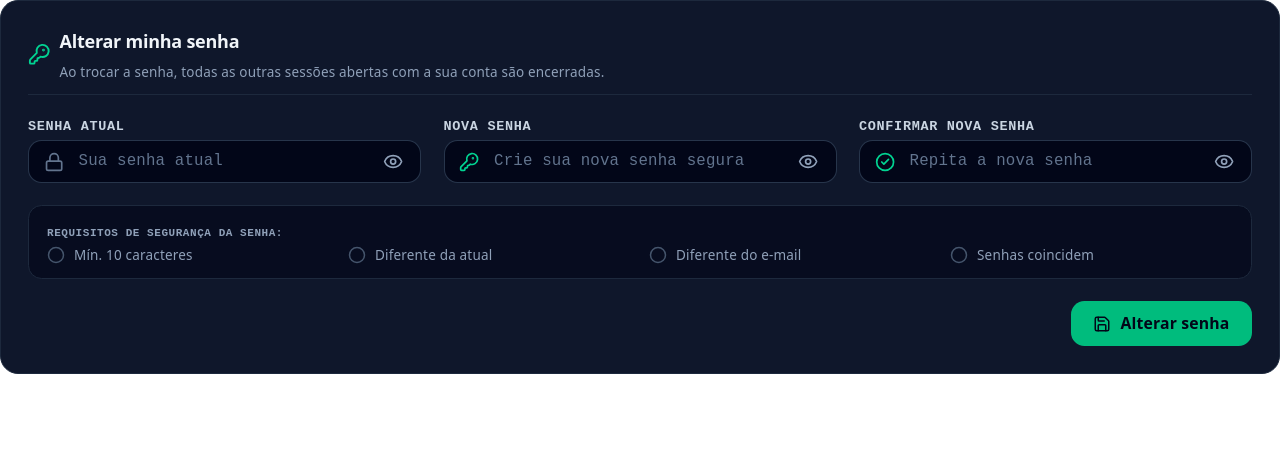
Test: AlterarSenha › exibe a recusa da API
Type "senha-antiga-123" into the password field labelled "Senha atual" at (224, 162), box [28,140,421,183]
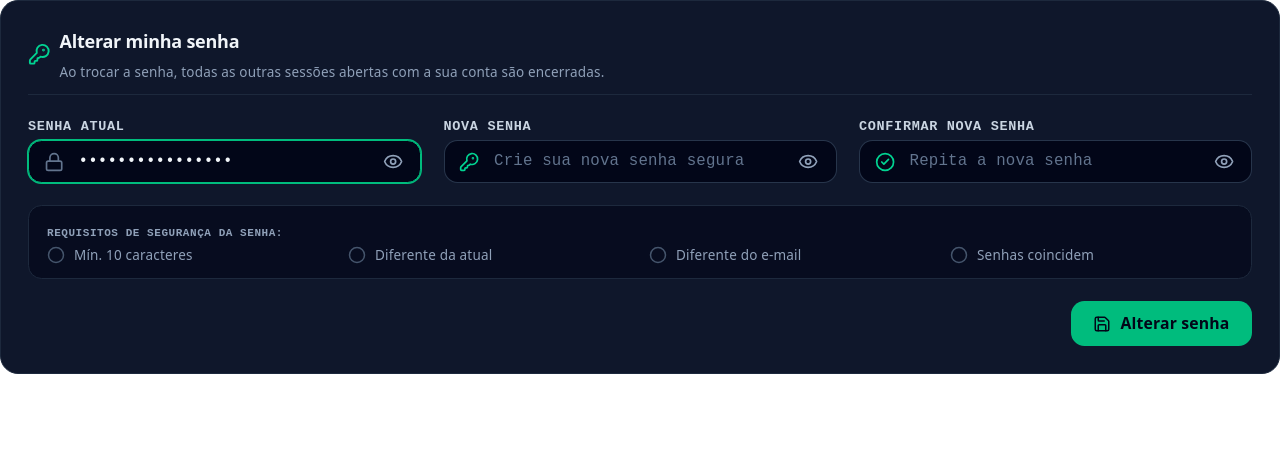
Type "nova-senha-segura" into the password field labelled "Nova senha" at (640, 162), box [444,140,836,183]
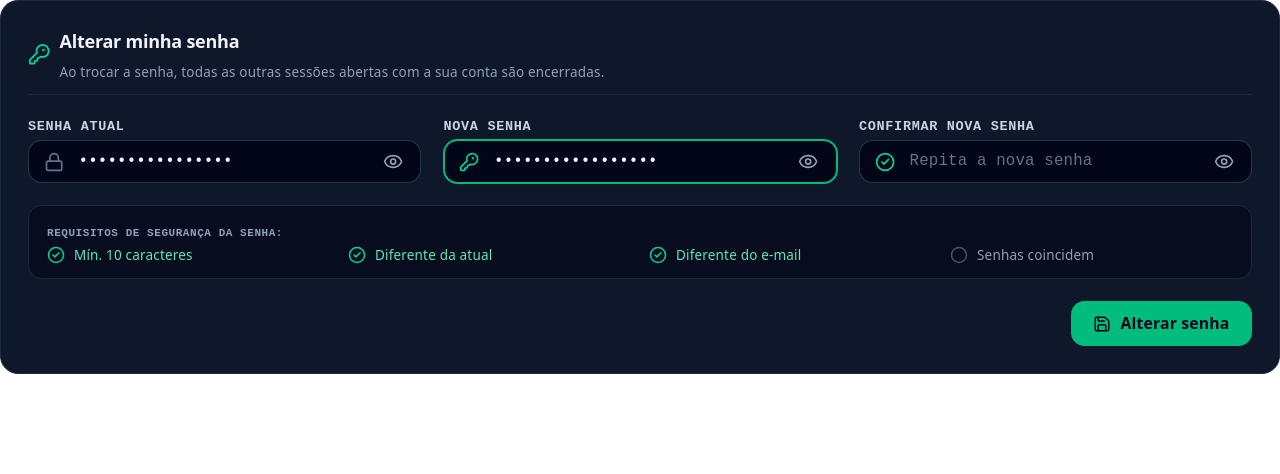
Type "nova-senha-segura" into the password field labelled "Confirmar nova senha" at (1056, 162), box [859,140,1252,183]
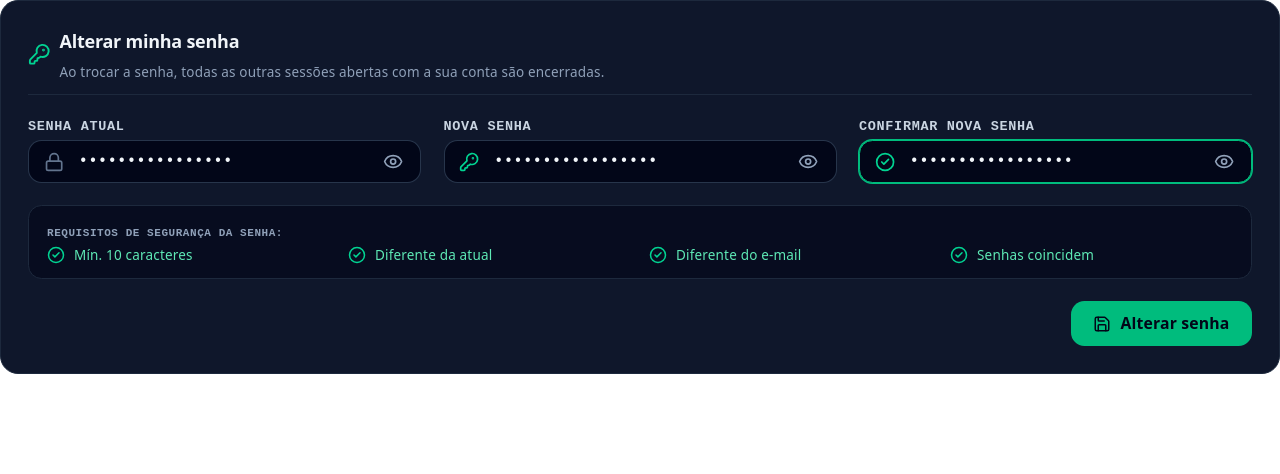
Click the button "Alterar senha" at (1161, 324), box [1071,301,1252,346]
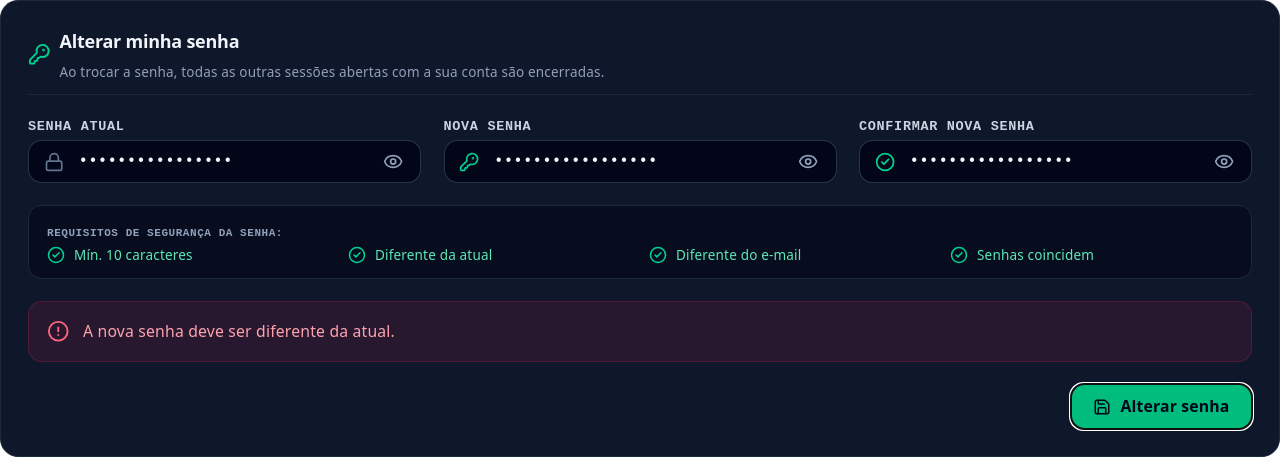
Now the message reads "A nova senha deve ser diferente da atual.", box [83,320,395,342]
